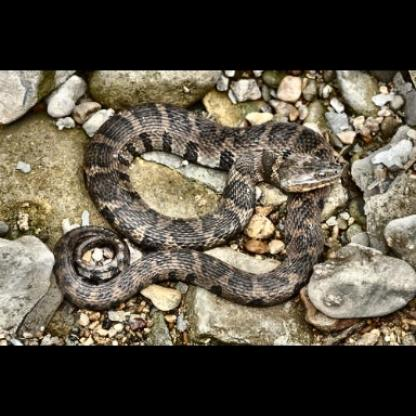Snake: (9, 85, 416, 333)
